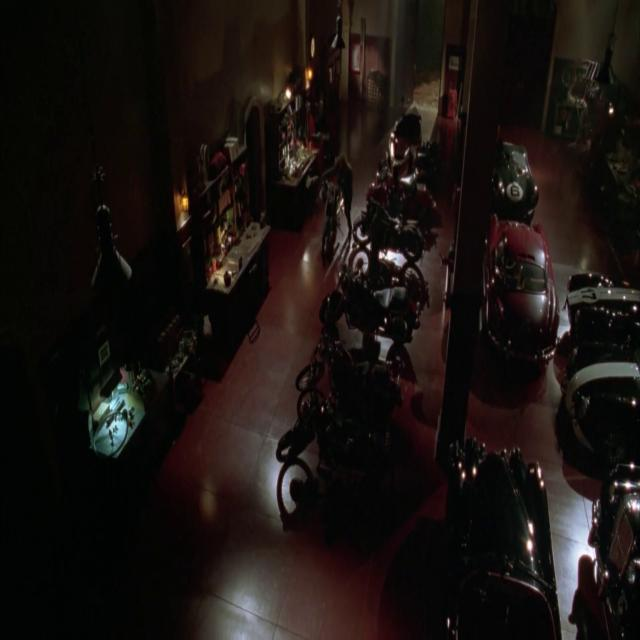Motorbike: (283, 267, 404, 467), (314, 167, 344, 262)
